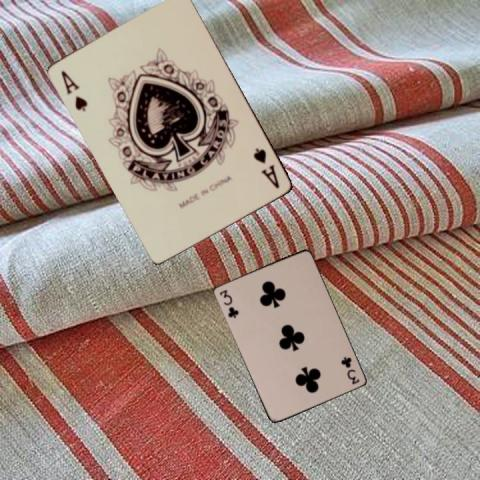3c: (216, 287, 240, 319), (338, 354, 361, 385)
As: (59, 68, 89, 114), (251, 145, 281, 190)
